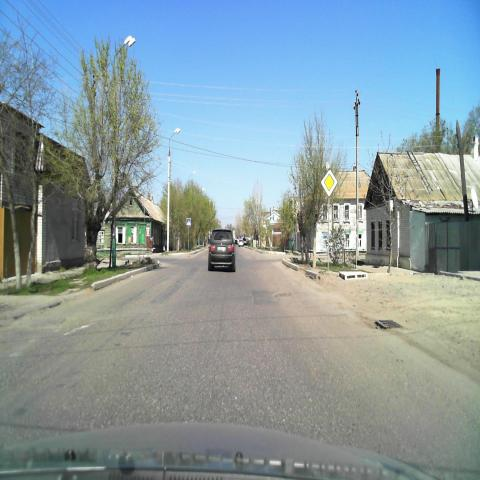2_1: (321, 168, 338, 197)
